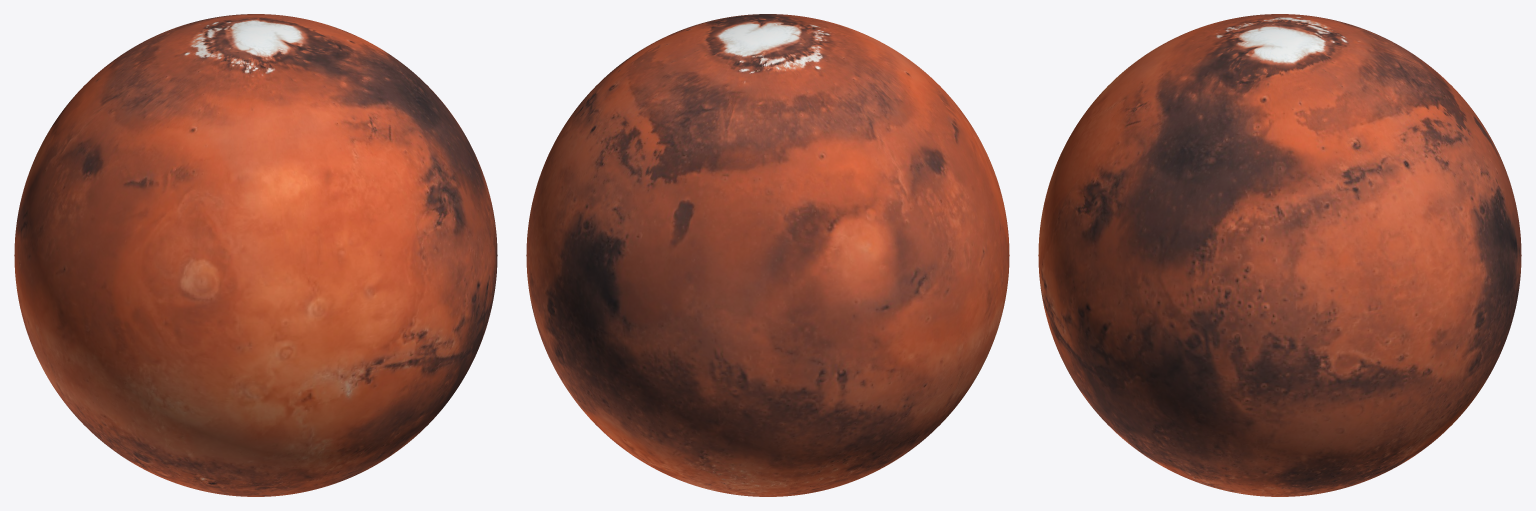
The model's file is mars.glb.
3 views of the same model, side by side, from view 1: azimuth 30°, elevation 25°; view 2: azimuth 150°, elevation 25°; view 3: azimuth 270°, elevation 25° (orthographic).
Visible parts, largest first — view 1: Mars; view 2: Mars; view 3: Mars.
Part boxes in pixels (x1,y1,x2,y2): Mars: (14, 14, 497, 496); Mars: (526, 14, 1009, 496); Mars: (1038, 14, 1521, 496).
Bounding box in the file's own units: 2 × 2 × 2.
Materials: 1 (1 with a texture image).
